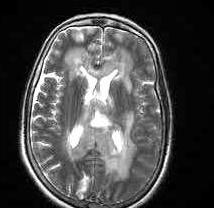Normal_Brain: (1, 4, 214, 208)
